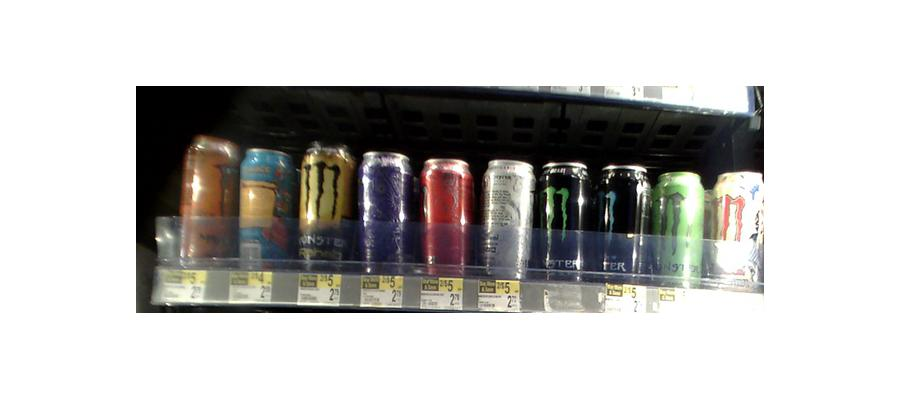bottle: (296, 141, 354, 276), (180, 129, 235, 271), (539, 157, 596, 289), (236, 146, 291, 275), (358, 151, 414, 277), (417, 156, 475, 277), (478, 160, 533, 280), (601, 161, 653, 287), (710, 166, 764, 286), (652, 167, 706, 287)
